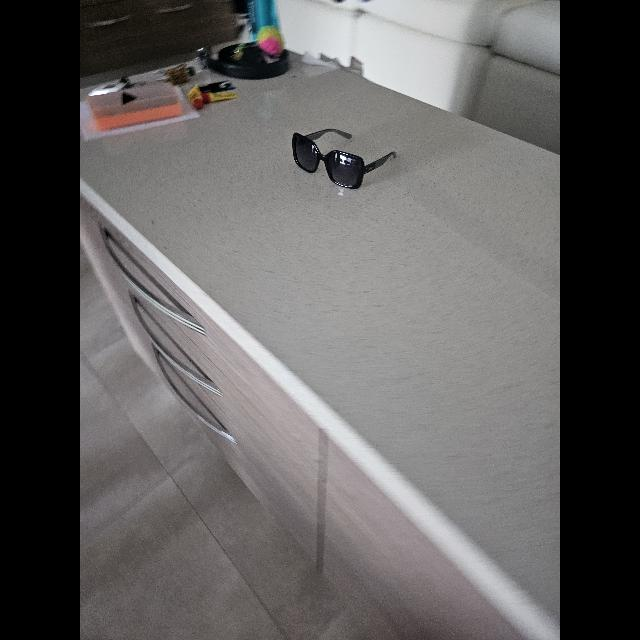Sunglasses: (292, 129, 396, 189)
